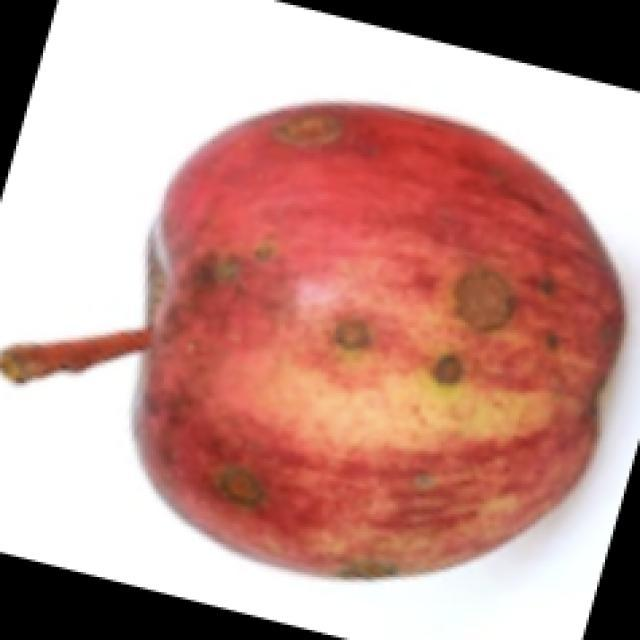Rotten: (160, 76, 627, 582)
